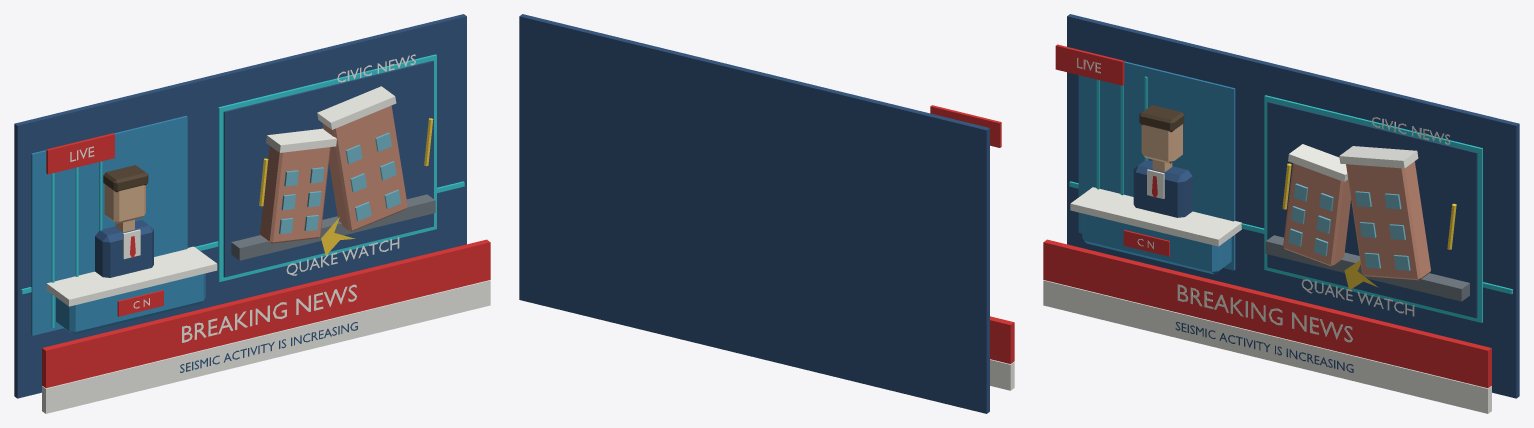
Rendered from News_Background_Earthquake.fbx.
3 renders of one model, left to right at view 1: azimuth 30°, elevation 25°; view 2: azimuth 150°, elevation 25°; view 3: azimuth 330°, elevation 25°, orthographic. The views are drawn at different scales.
Parts seen in each view (by area): view 1: Screen Background.014, Breaking Lower Third.014, Story Window.014, Studio Left Panel.014, Hint Strip.014, Building Facade.010, Building Facade.009, Desk Top.014, Desk.014, Story Border.014, Quake Ground.003, Anchor Jacket.014 (+11 smaller); view 2: Screen Background.014, Breaking Lower Third.014, Live Badge.014, Hint Strip.014; view 3: Screen Background.014, Breaking Lower Third.014, Story Window.014, Studio Left Panel.014, Hint Strip.014, Building Facade.010, Building Facade.009, Desk Top.014, Story Border.014, Desk.014, Quake Ground.003, Anchor Jacket.014 (+11 smaller).
Part boxes in pixels (x1=…): Screen Background.014: x1=14, y1=14, x2=466, y2=398; Breaking Lower Third.014: x1=42, y1=239, x2=490, y2=388; Story Window.014: x1=223, y1=60, x2=433, y2=277; Studio Left Panel.014: x1=31, y1=115, x2=187, y2=335; Hint Strip.014: x1=42, y1=280, x2=490, y2=413; Building Facade.010: x1=323, y1=105, x2=407, y2=231; Building Facade.009: x1=259, y1=146, x2=330, y2=243; Desk Top.014: x1=46, y1=246, x2=217, y2=306; Desk.014: x1=56, y1=273, x2=205, y2=334; Story Border.014: x1=218, y1=54, x2=436, y2=281; Quake Ground.003: x1=231, y1=194, x2=435, y2=260; Anchor Jacket.014: x1=95, y1=220, x2=153, y2=277; Screen Background.014: x1=519, y1=14, x2=989, y2=413; Breaking Lower Third.014: x1=990, y1=316, x2=1014, y2=363; Live Badge.014: x1=930, y1=105, x2=1001, y2=147; Hint Strip.014: x1=990, y1=359, x2=1014, y2=390; Screen Background.014: x1=1067, y1=14, x2=1519, y2=398; Breaking Lower Third.014: x1=1043, y1=239, x2=1491, y2=388; Story Window.014: x1=1267, y1=101, x2=1477, y2=318; Studio Left Panel.014: x1=1078, y1=61, x2=1235, y2=270; Hint Strip.014: x1=1043, y1=280, x2=1491, y2=413; Building Facade.010: x1=1346, y1=161, x2=1430, y2=280; Building Facade.009: x1=1283, y1=163, x2=1350, y2=266; Desk Top.014: x1=1070, y1=187, x2=1241, y2=246; Story Border.014: x1=1264, y1=95, x2=1482, y2=322; Desk.014: x1=1082, y1=213, x2=1231, y2=274; Quake Ground.003: x1=1265, y1=235, x2=1469, y2=301; Anchor Jacket.014: x1=1133, y1=160, x2=1192, y2=217.
Size of the model in its own units: 376 by 218 by 43.53.
